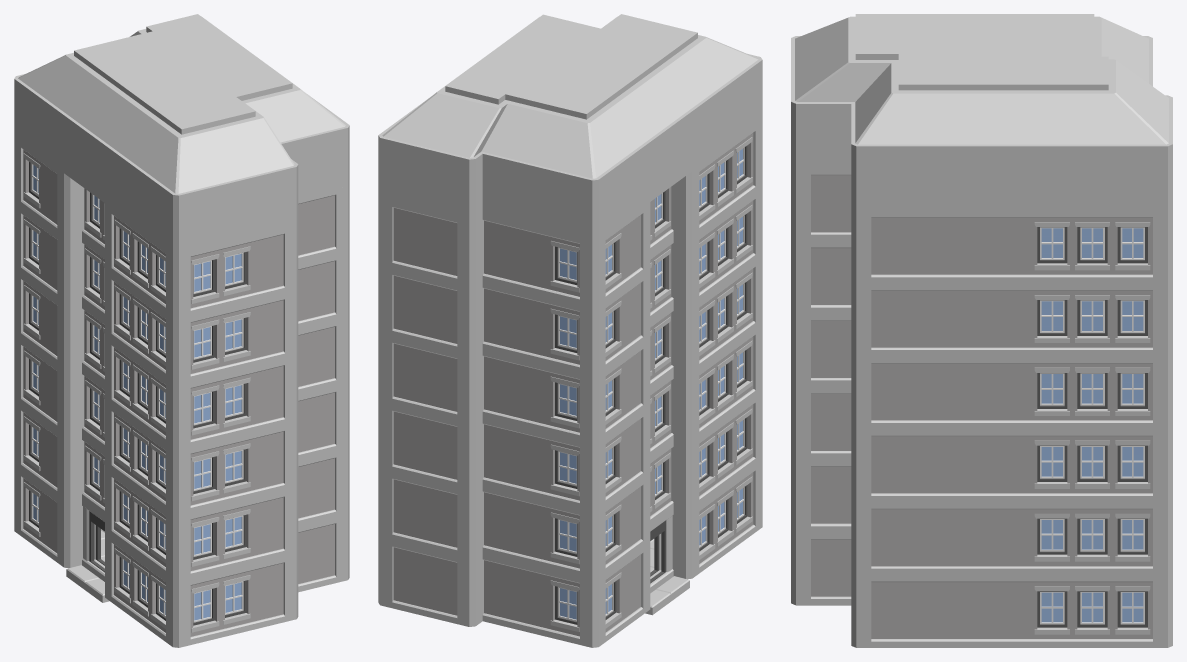
Rendered from New_Building.fbx.
The picture shows the model from 3 angles, left to right: view 1: azimuth 30°, elevation 25°; view 2: azimuth 150°, elevation 25°; view 3: azimuth 270°, elevation 25°; orthographic projection. The views are drawn at different scales.
Visible parts, largest first — view 1: Mesh352_Brick_Tumbled_0; view 2: Mesh352_Brick_Tumbled_0; view 3: Mesh352_Brick_Tumbled_0.
Boxes of the visible parts, box(x1,y1,x2,y2) form: Mesh352_Brick_Tumbled_0: box(14, 14, 349, 647); Mesh352_Brick_Tumbled_0: box(378, 14, 762, 647); Mesh352_Brick_Tumbled_0: box(791, 14, 1172, 647).
Size of the model in its own units: 360 by 836 by 526.
